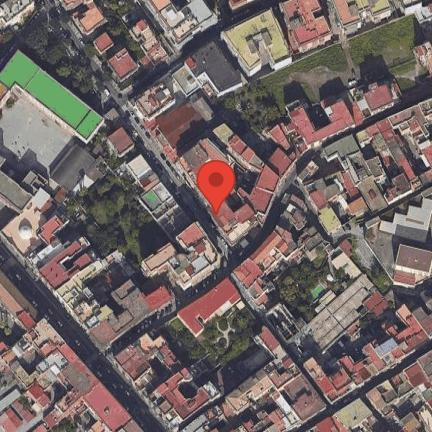area_open: (0, 92, 77, 178), (352, 225, 392, 293), (110, 97, 140, 127)
built: (2, 49, 107, 143), (306, 274, 387, 355), (224, 6, 293, 72), (287, 93, 361, 151), (177, 275, 242, 336), (183, 36, 248, 96), (156, 101, 216, 164), (181, 141, 239, 199), (50, 139, 110, 193), (49, 344, 102, 402), (2, 199, 51, 259), (40, 239, 95, 291), (211, 192, 263, 246), (282, 0, 335, 49), (80, 385, 135, 432), (0, 272, 41, 333), (323, 135, 373, 185), (380, 198, 432, 246), (280, 374, 328, 424), (170, 237, 219, 285), (225, 369, 274, 414), (131, 15, 172, 67), (131, 78, 179, 122), (360, 76, 404, 120), (303, 357, 342, 406), (113, 280, 154, 326), (114, 341, 155, 385), (366, 227, 399, 280), (390, 104, 432, 145), (177, 383, 221, 422), (253, 229, 291, 273), (267, 302, 307, 343), (384, 131, 416, 181), (107, 47, 146, 88), (139, 180, 178, 220), (29, 319, 66, 361), (0, 170, 34, 212), (234, 184, 280, 215), (166, 5, 203, 43), (57, 274, 94, 310), (256, 327, 291, 364), (141, 275, 175, 313), (232, 138, 266, 176), (336, 397, 374, 431), (395, 323, 431, 358), (326, 359, 358, 398), (341, 355, 379, 387), (12, 336, 44, 373), (394, 244, 432, 275), (358, 176, 388, 215), (152, 345, 185, 380), (270, 388, 299, 427), (77, 4, 109, 37), (89, 318, 120, 352), (31, 238, 65, 269), (235, 258, 266, 292), (1, 0, 36, 30), (144, 243, 179, 272), (263, 360, 295, 391), (332, 252, 362, 285), (313, 181, 344, 212), (403, 361, 432, 394), (93, 26, 121, 59), (174, 65, 202, 98), (176, 222, 207, 251), (383, 173, 412, 204), (269, 145, 296, 178), (335, 171, 361, 205), (332, 0, 365, 26), (362, 344, 391, 373), (202, 404, 232, 432), (22, 169, 50, 197), (128, 153, 155, 182), (253, 391, 279, 421), (306, 414, 349, 432), (269, 120, 293, 152), (3, 403, 29, 432), (390, 371, 416, 400), (39, 215, 64, 245), (260, 165, 285, 195), (29, 383, 54, 413), (15, 393, 40, 423), (9, 362, 35, 390), (75, 297, 104, 322), (138, 332, 167, 357), (166, 368, 195, 393), (381, 407, 410, 432), (108, 307, 133, 335), (300, 222, 325, 250), (110, 129, 135, 156), (190, 1, 217, 26), (319, 206, 342, 235), (368, 155, 389, 185), (159, 394, 184, 419), (44, 406, 70, 430), (416, 40, 432, 78), (239, 408, 264, 432), (149, 383, 173, 407), (396, 304, 420, 328), (214, 398, 237, 423), (367, 118, 394, 139), (217, 121, 239, 146), (366, 387, 388, 412), (402, 412, 429, 432), (347, 197, 370, 220), (377, 336, 400, 359), (363, 0, 394, 17), (377, 380, 398, 405), (287, 203, 306, 230), (148, 2, 180, 18), (353, 417, 387, 432), (0, 341, 17, 370), (298, 161, 319, 184), (270, 411, 294, 431), (61, 0, 97, 13), (420, 349, 432, 388), (306, 178, 329, 198), (36, 188, 54, 213), (392, 269, 417, 286), (420, 136, 432, 170), (338, 237, 358, 257), (381, 316, 401, 336), (417, 406, 432, 432), (402, 0, 426, 16), (290, 194, 310, 212), (279, 212, 297, 231), (413, 305, 430, 324), (84, 314, 101, 331), (420, 168, 432, 192), (86, 421, 112, 432), (421, 285, 432, 311), (278, 228, 295, 243), (176, 390, 190, 407), (357, 129, 371, 146), (424, 96, 432, 125), (98, 306, 113, 320), (33, 421, 50, 432), (424, 388, 432, 411), (424, 315, 432, 335)
vegetation_high: (53, 171, 167, 269)
vegetation_low: (208, 44, 356, 163), (21, 5, 116, 116), (160, 302, 267, 396), (345, 16, 432, 104), (273, 247, 347, 325), (100, 0, 148, 57)
